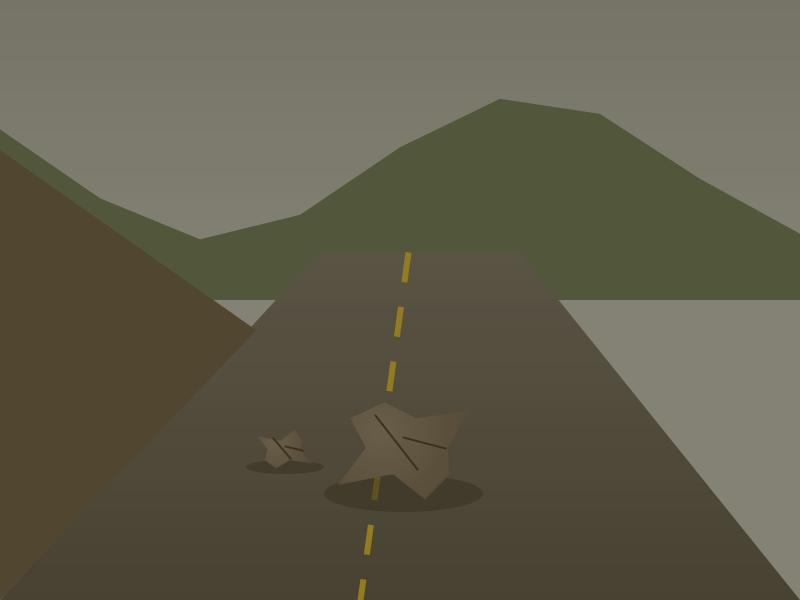ROAD_OBSTACLE: (334, 394, 473, 502), (256, 430, 314, 470)
